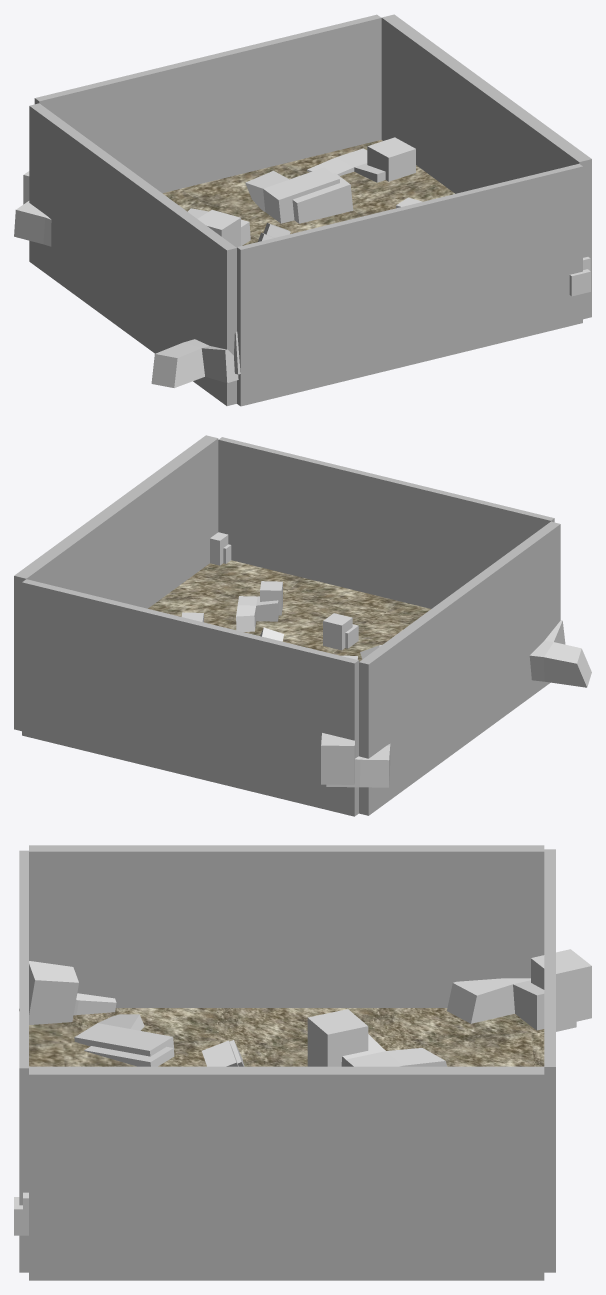
Rendered from env.fbx.
3 renders of one model, top to bottom at view 1: azimuth 30°, elevation 25°; view 2: azimuth 150°, elevation 25°; view 3: azimuth 270°, elevation 25°, orthographic. The views are drawn at different scales.
Parts seen in each view (by area): view 1: Cube; view 2: Cube; view 3: Cube.
Boxes of the visible parts, bbox=[...] form: Cube: bbox=[14, 14, 591, 406]; Cube: bbox=[14, 435, 591, 816]; Cube: bbox=[14, 845, 591, 1280].
Size of the model in its own units: 2433 by 883 by 2244.
